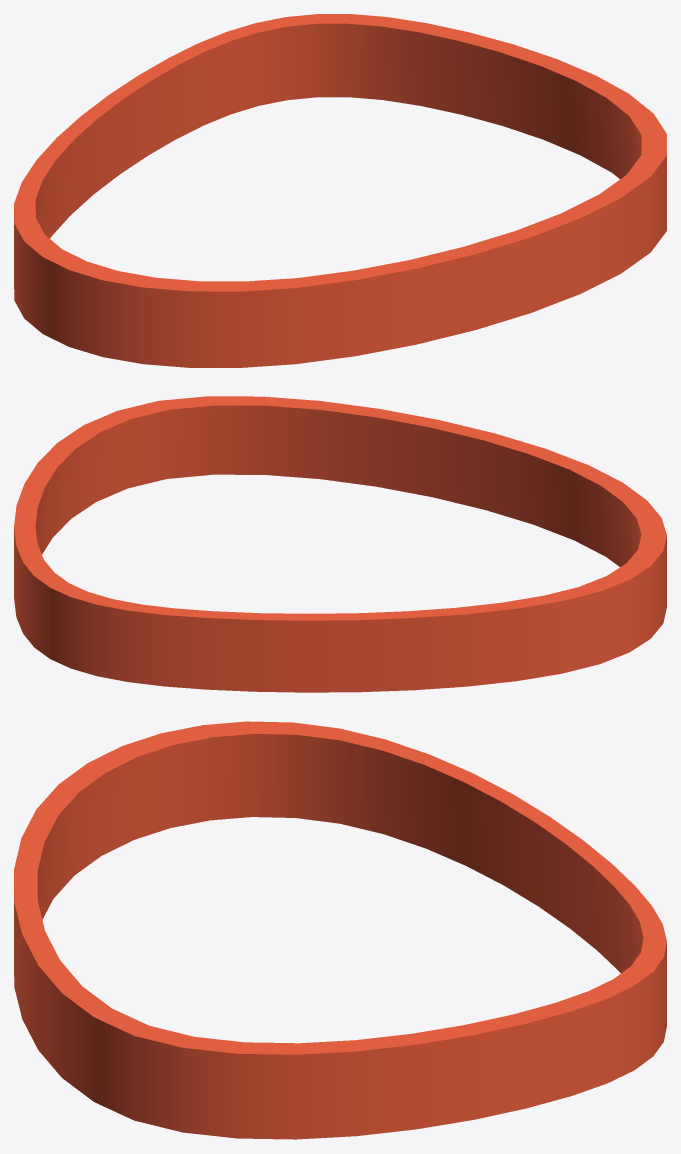
File: ESC_4Base.obj
The picture shows the model from 3 angles, top to bottom: view 1: azimuth 30°, elevation 25°; view 2: azimuth 150°, elevation 25°; view 3: azimuth 270°, elevation 25°; orthographic projection. The views are drawn at different scales.
Parts seen in each view (by area): view 1: ESC_4Base; view 2: ESC_4Base; view 3: ESC_4Base.
Part boxes in pixels (x1,y1,x2,y2): ESC_4Base: (14,14,666,367); ESC_4Base: (14,396,666,692); ESC_4Base: (14,721,666,1139).
Size of the model in its own units: 0.089 by 0.0108 by 0.074.
